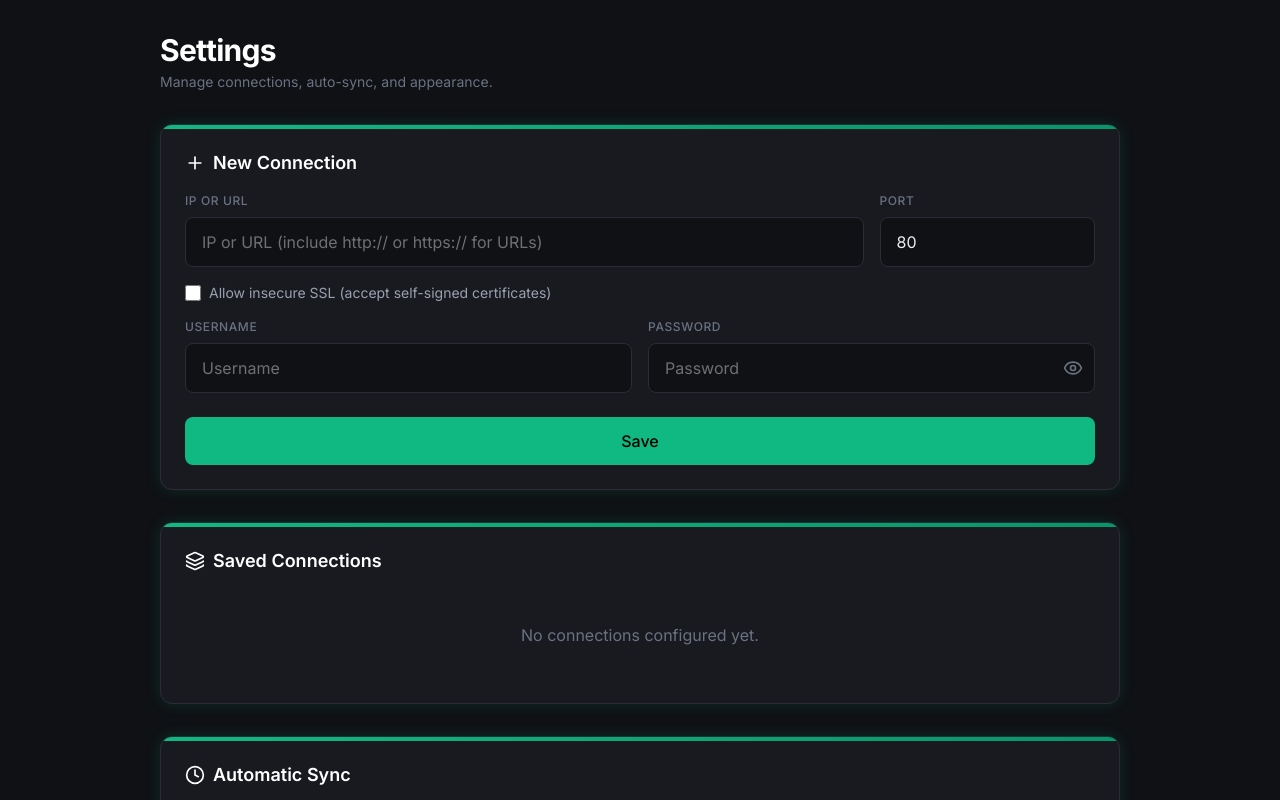
Settings › saves new connection successfully
Type "192.168.1.1" into the field with placeholder "IP or URL (include http:// or https:// for URLs)".
click(524, 242); type("192.168.1.1")  # box 185,217 -> 864,267
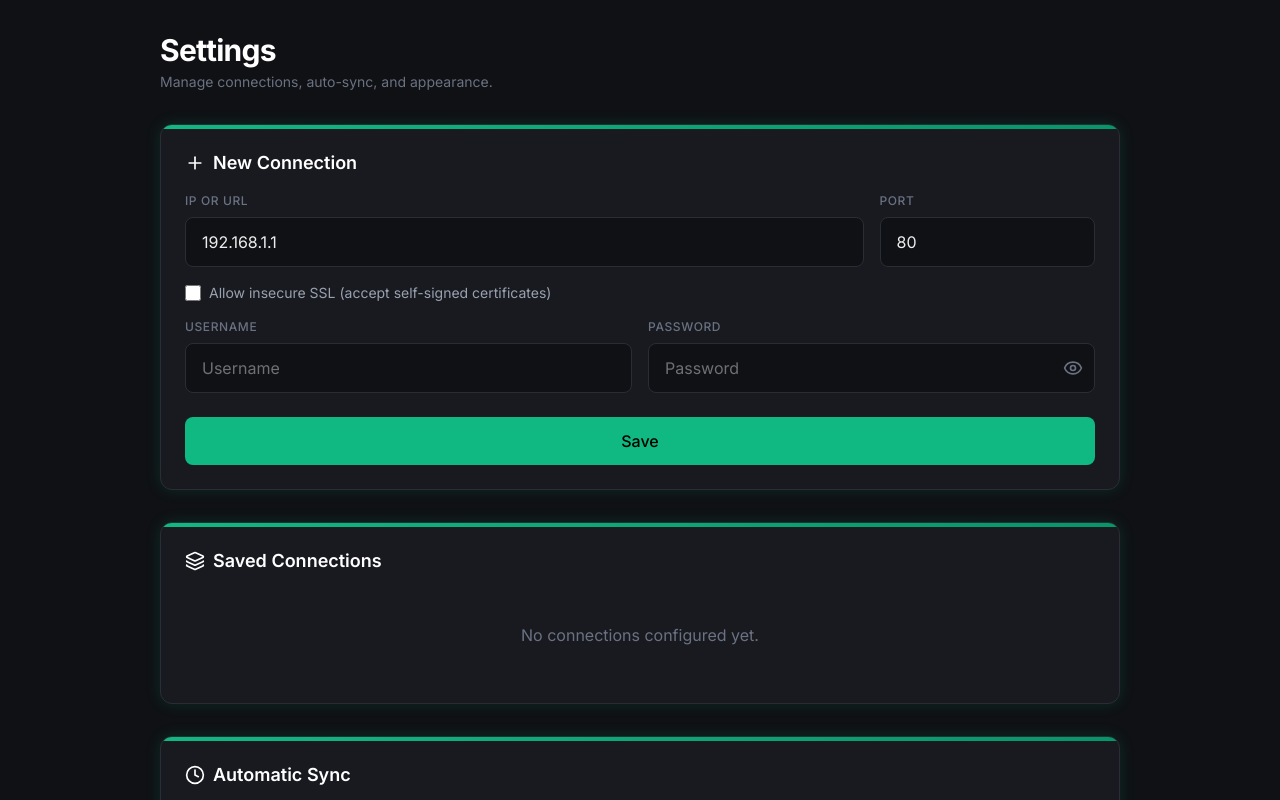
Type "admin" into the field with placeholder "Username".
click(408, 368); type("admin")  # box 185,343 -> 632,393
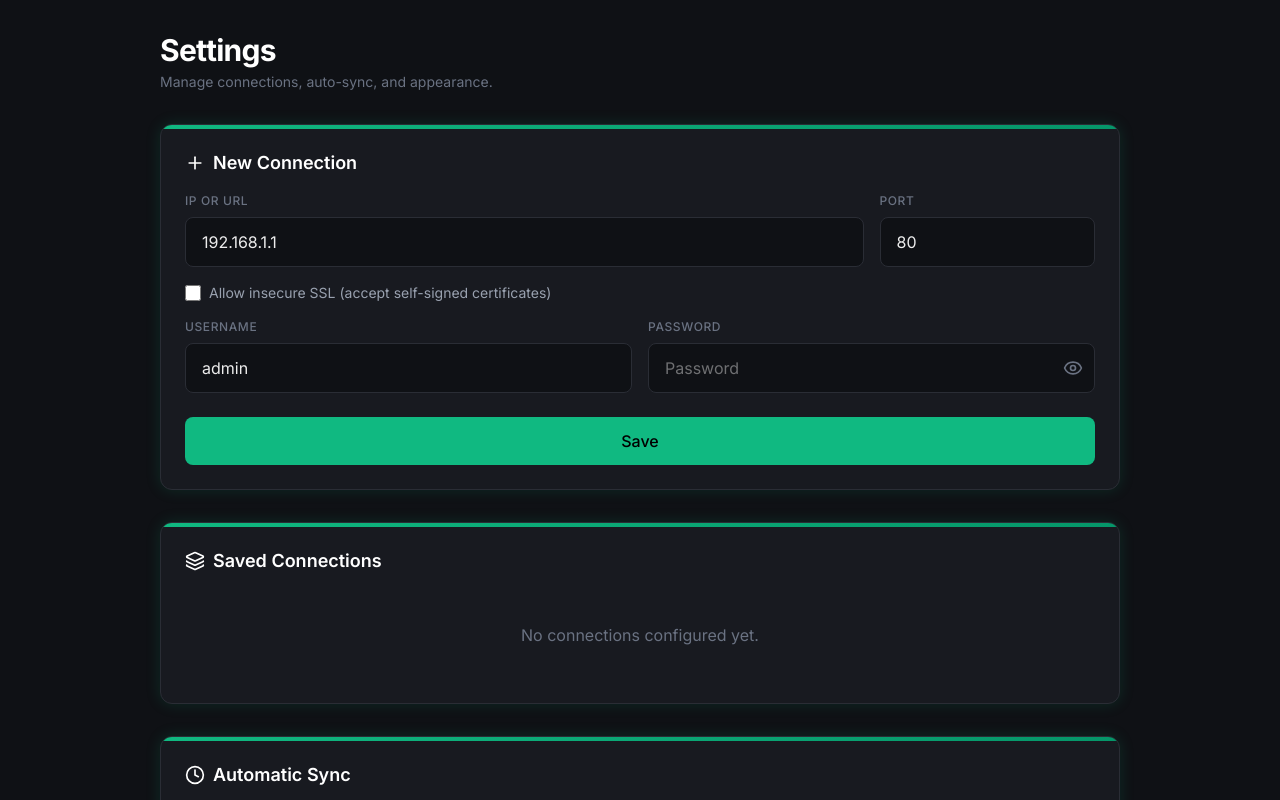
Type "password123" into the password field with placeholder "Password".
click(872, 368); type("password123")  # box 648,343 -> 1095,393
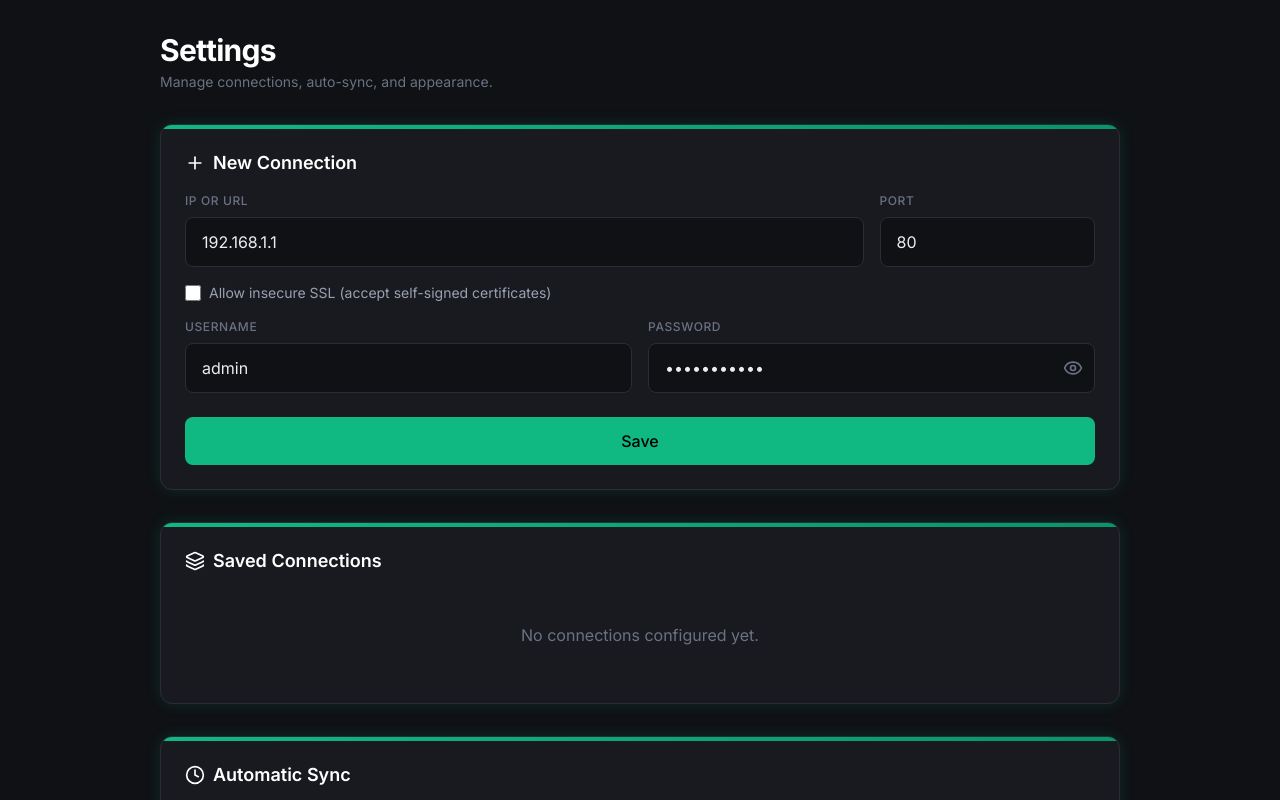
Click the button "Save".
click(640, 441)  # box 185,417 -> 1095,465
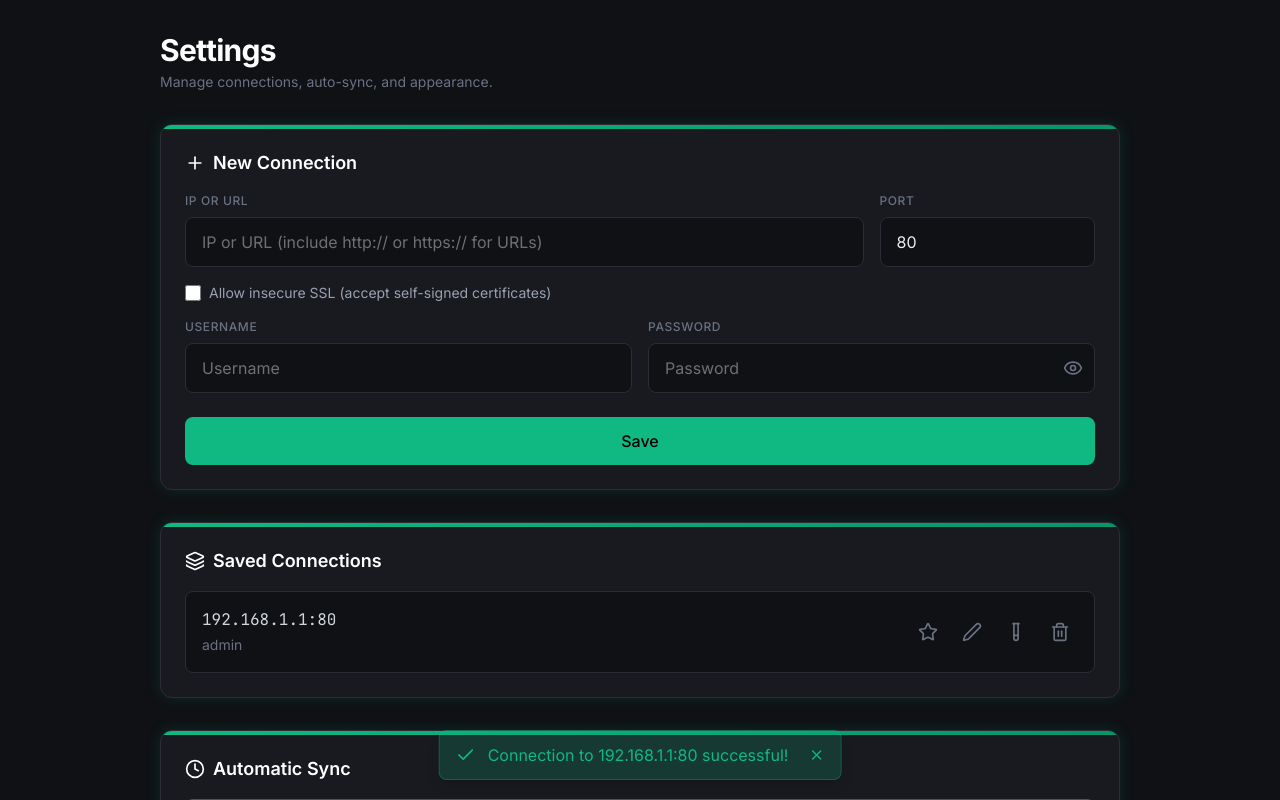
Now the text "Connection to 192.168.1.1:80 successful!" is shown, box 439,730 -> 841,780
